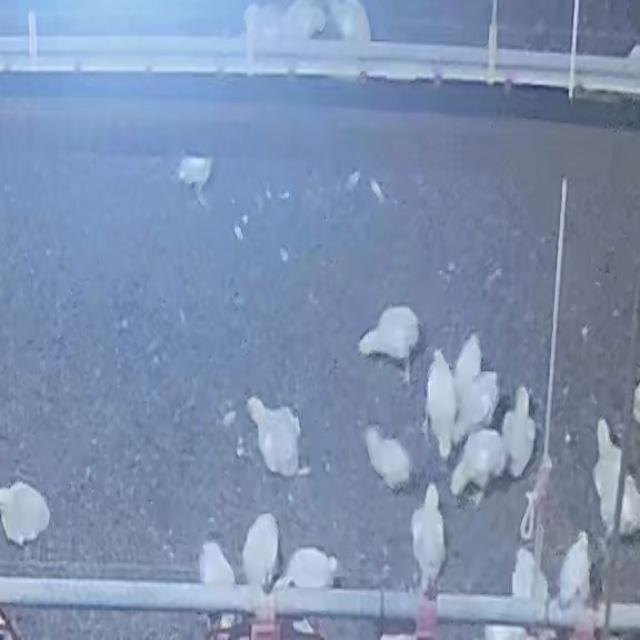chicken: (242, 392, 308, 481), (592, 420, 640, 537), (356, 302, 422, 386), (451, 334, 498, 448), (407, 482, 452, 588), (449, 427, 506, 505), (360, 422, 414, 492), (425, 349, 457, 458), (500, 386, 537, 480), (0, 481, 52, 547), (242, 511, 280, 594), (558, 531, 592, 608)
